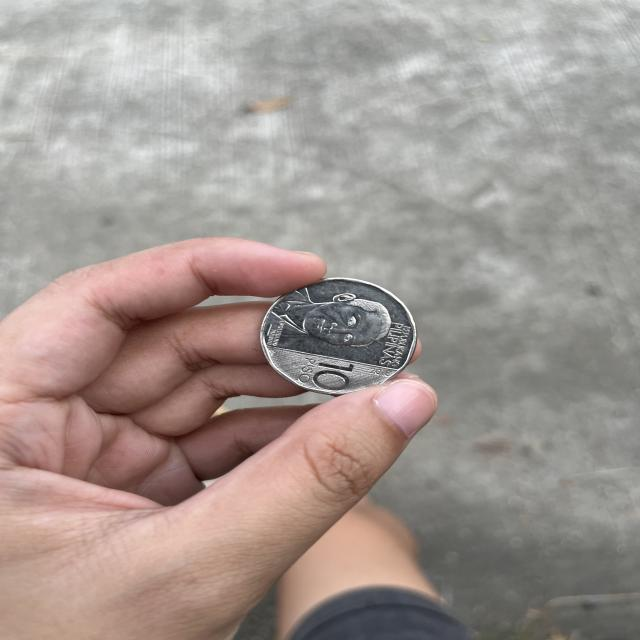10_New_Front: (286, 349, 374, 393)
